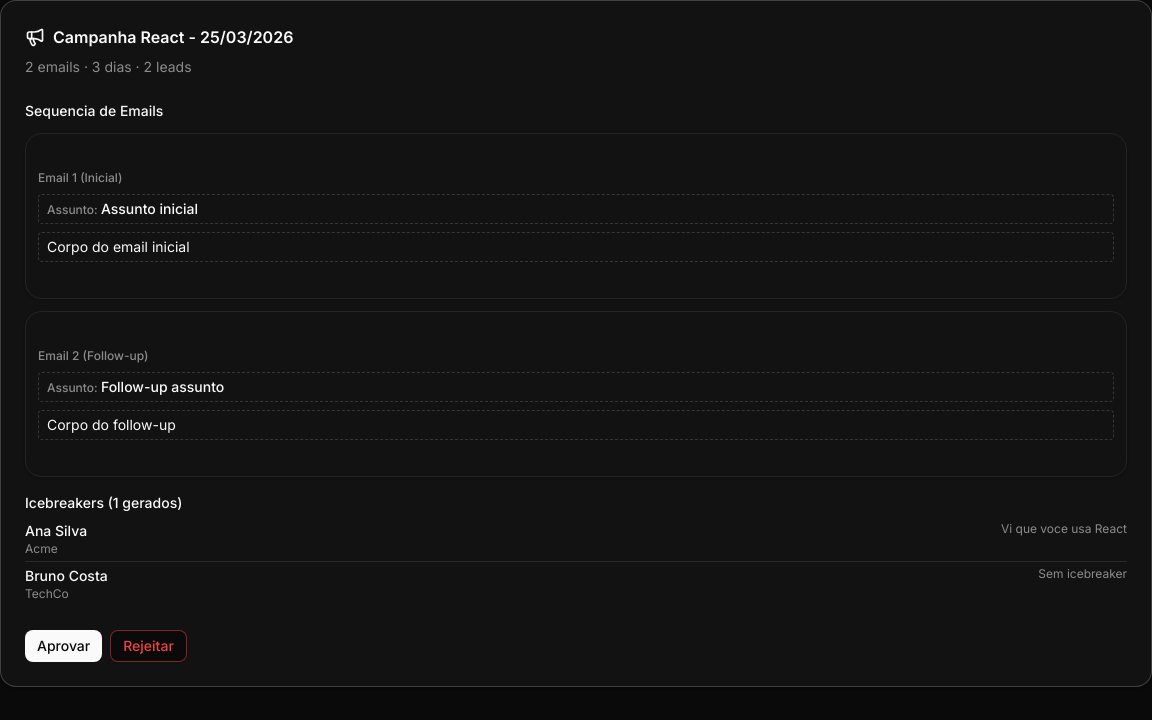
Test: AgentCampaignPreview (AC: #1, #2, #3) › closes input on blur
The width and height of the screenshot is (1152, 720).
Click the element with test id "email-subject-0". click: (576, 209)
box: x1=38 y1=194 x2=1114 y2=224
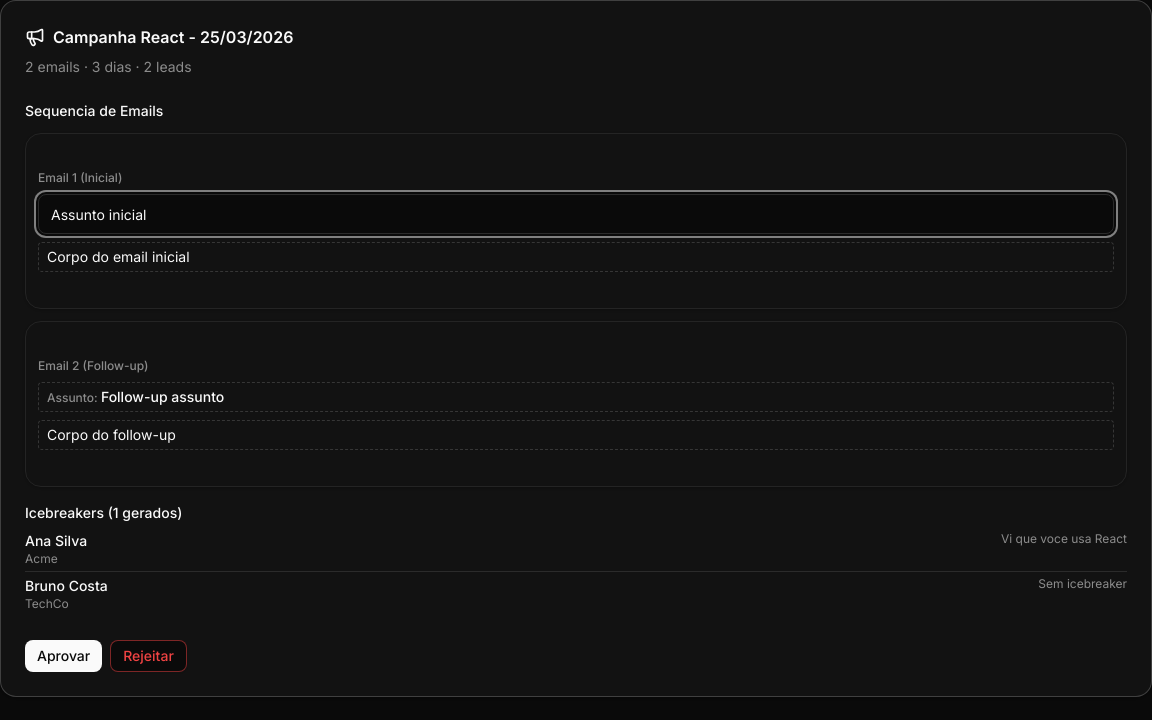
Leave the field with test id "email-subject-input-0", box x1=38 y1=194 x2=1114 y2=234
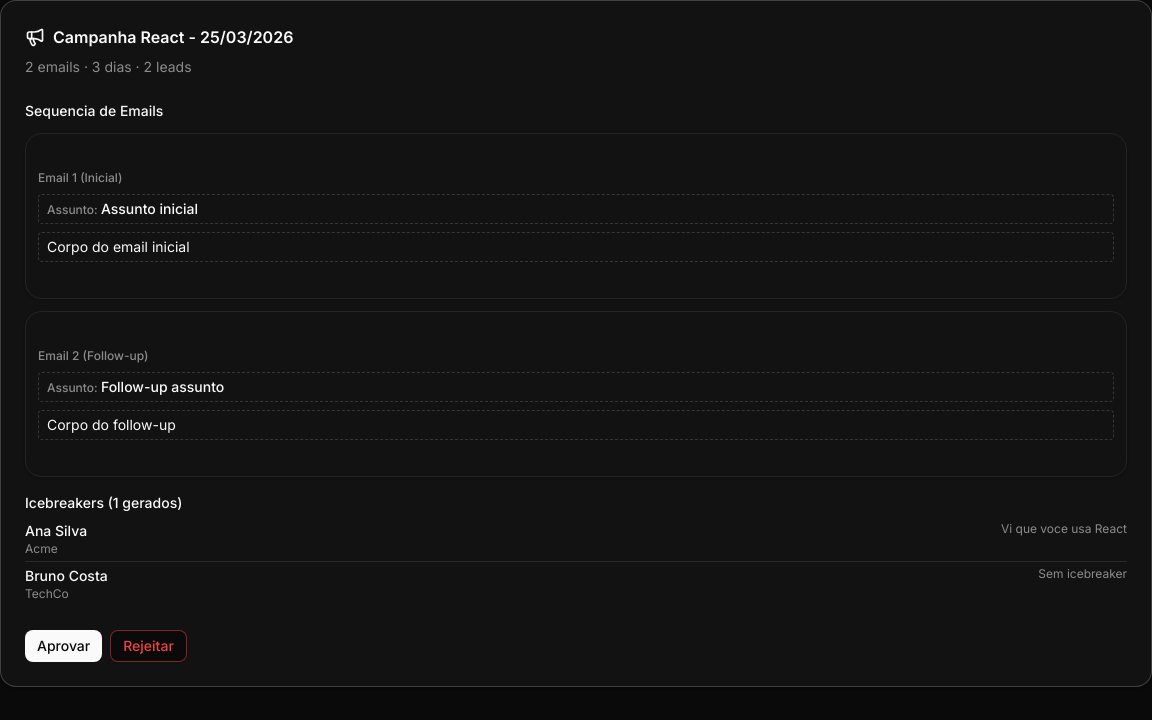
Now the field with test id "email-subject-input-0" is gone
